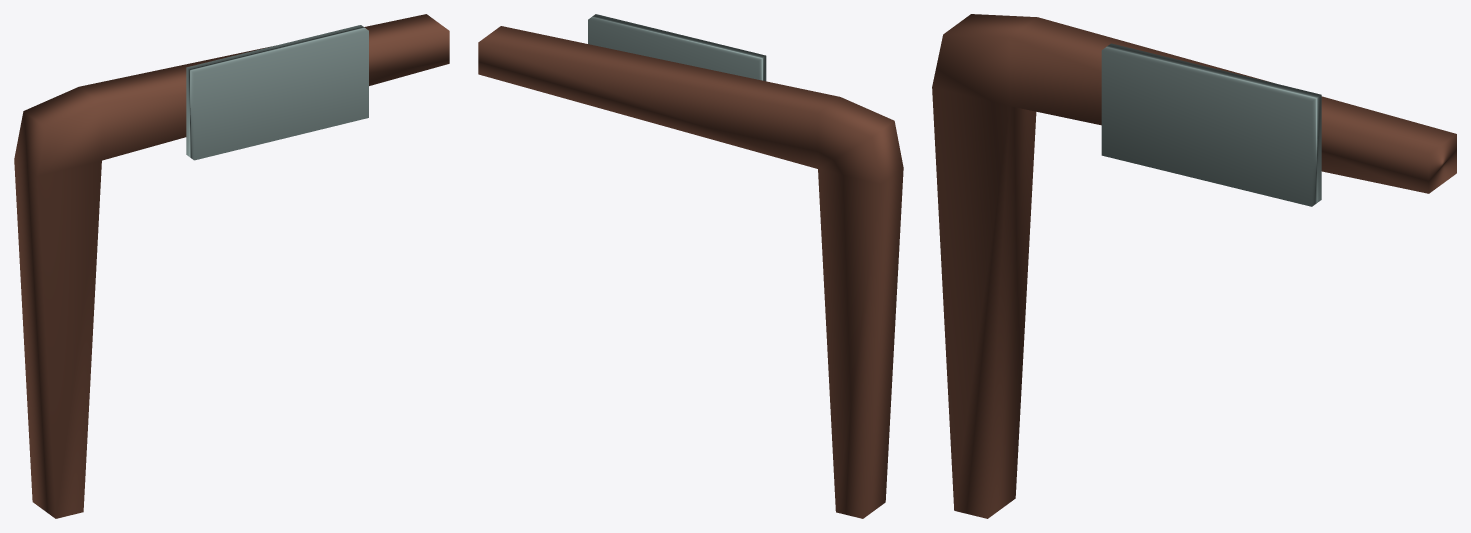
The model's file is McWilderbeest_6.fbx.
The picture shows the model from 3 angles, left to right: view 1: azimuth 30°, elevation 25°; view 2: azimuth 150°, elevation 25°; view 3: azimuth 330°, elevation 25°; orthographic projection. The views are drawn at different scales.
Visible parts, largest first — view 1: McWilderbeest_6; view 2: McWilderbeest_6; view 3: McWilderbeest_6.
Part boxes in pixels (<box>): McWilderbeest_6: <box>14,14,449,518</box>; McWilderbeest_6: <box>478,14,903,518</box>; McWilderbeest_6: <box>932,14,1456,518</box>.
Size of the model in its own units: 277 by 269 by 36.41.
Materials: 1 (1 with a texture image).
